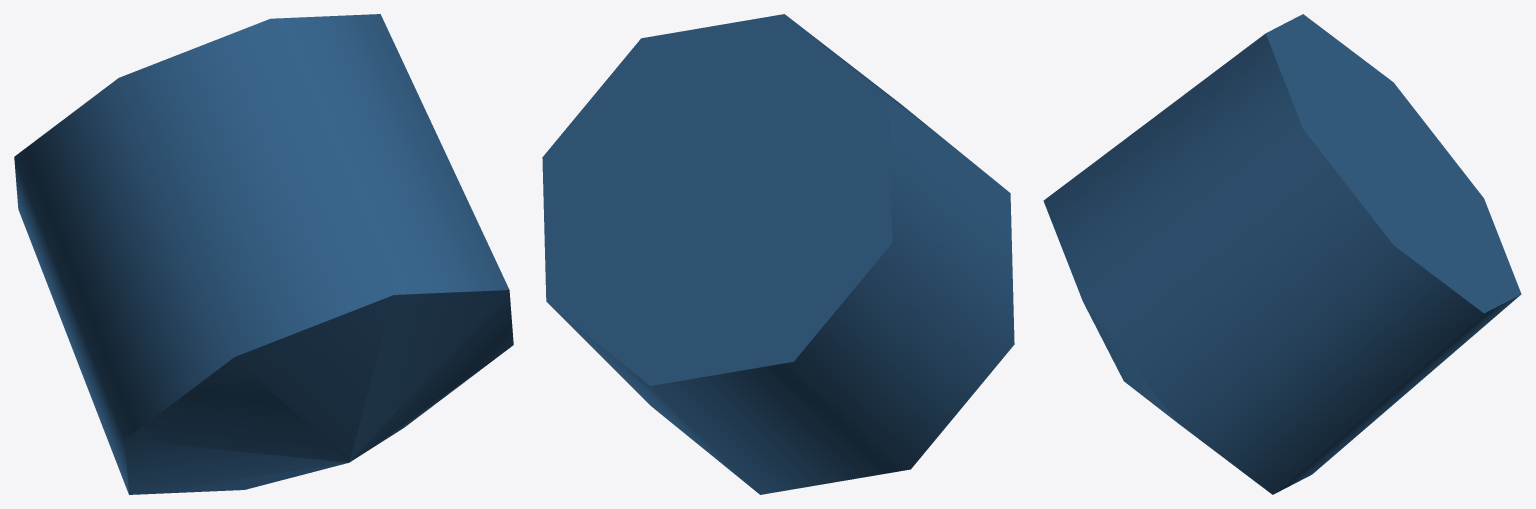
File: rm2_arm_l_wrist.obj
3 views of the same model, side by side, from view 1: azimuth 30°, elevation 25°; view 2: azimuth 150°, elevation 25°; view 3: azimuth 270°, elevation 25° (orthographic). The views are drawn at different scales.
Visible parts, largest first — view 1: rm2_arm_l_wrist; view 2: rm2_arm_l_wrist; view 3: rm2_arm_l_wrist.
Boxes of the visible parts, x1=… form: rm2_arm_l_wrist: x1=14, y1=14, x2=513, y2=494; rm2_arm_l_wrist: x1=542, y1=14, x2=1014, y2=494; rm2_arm_l_wrist: x1=1043, y1=14, x2=1521, y2=494.
Bounding box in the file's own units: 0.084 × 0.1011 × 0.0993.
